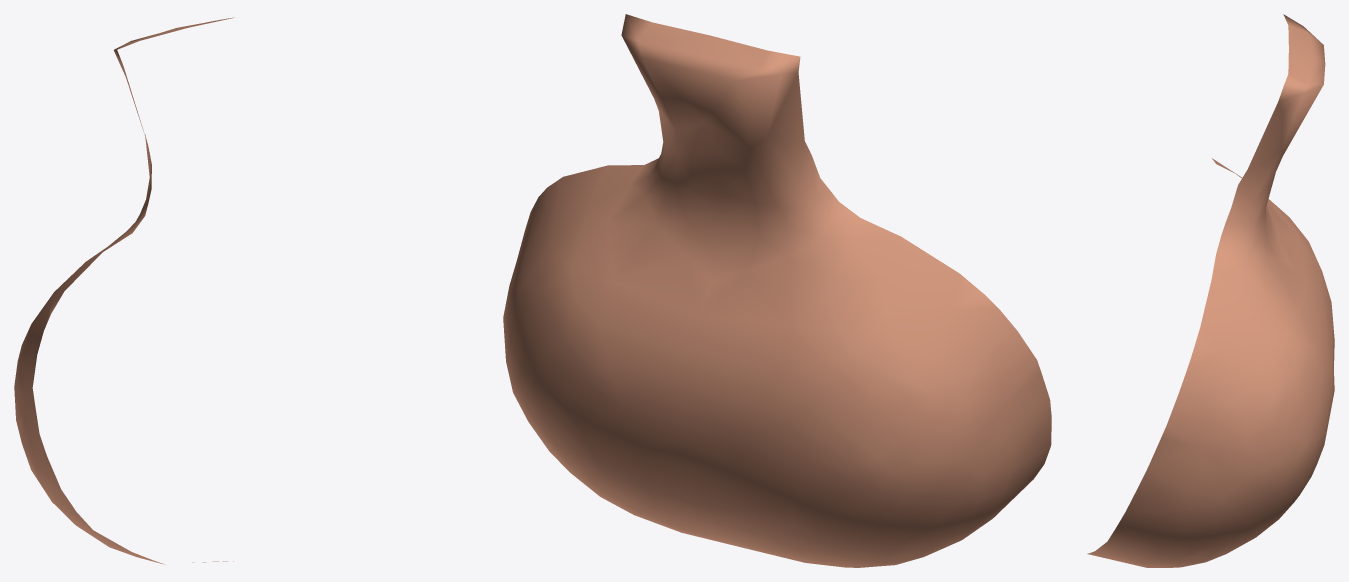
Rendered from neurohypophysis.glb.
3 renders of one model, left to right at view 1: azimuth 30°, elevation 25°; view 2: azimuth 150°, elevation 25°; view 3: azimuth 270°, elevation 25°, orthographic. The views are drawn at different scales.
Parts seen in each view (by area): view 1: Neurohypophysis; view 2: Neurohypophysis; view 3: Neurohypophysis.
Boxes of the visible parts, x1,y1,x2,y2 form: Neurohypophysis: (14,17,233,564); Neurohypophysis: (503,14,1051,567); Neurohypophysis: (1087,14,1334,567).
Bounding box in the file's own units: 0.0117 × 0.0121 × 0.00582.
